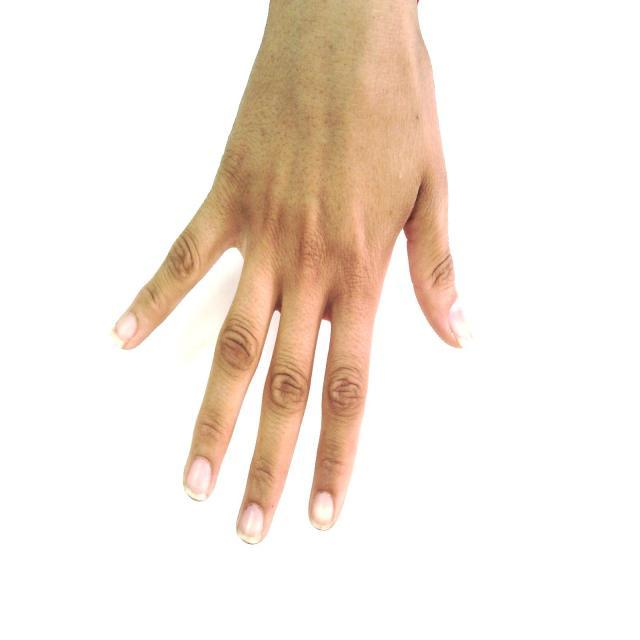Fingernail: (186, 458, 211, 500), (240, 504, 263, 543), (450, 303, 471, 344), (311, 492, 333, 529), (115, 313, 137, 342)
